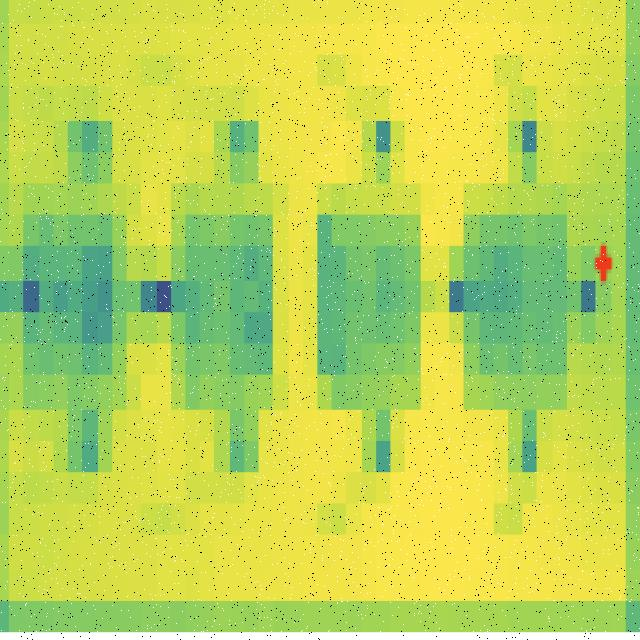Concrete: (312, 162, 428, 422)
Glass: (169, 162, 291, 422)
Metal: (453, 175, 576, 429)
Wood: (14, 162, 134, 428)
